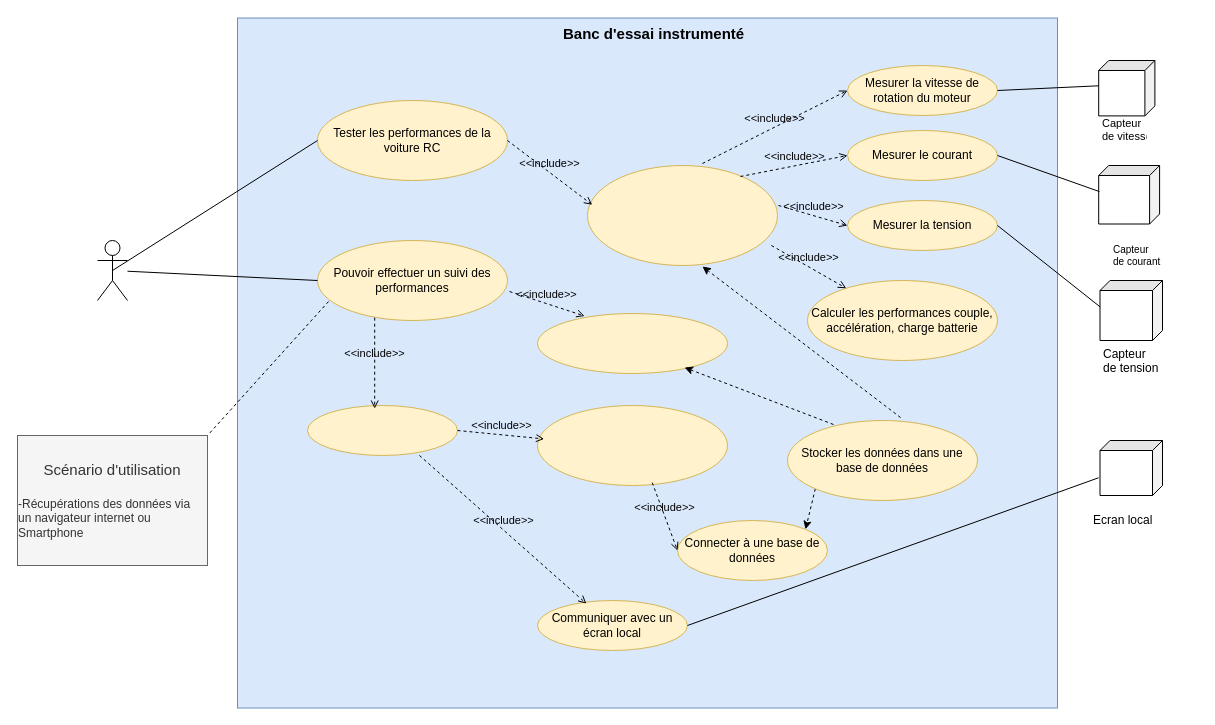
This 1215x725 diagram has some shape labels left out. The shapes that lost their labels are listed below. From the top down, each one's centre as x and y in pixels, then its label:
the point at 682,215: Mesurer les caractéristiques vitesse, courant, tension
the point at 112,270: Utilisateur
the point at 632,343: Identifier la voiture
the point at 382,430: Afficher les performances
the point at 632,445: Chercher les données dans une base de données
